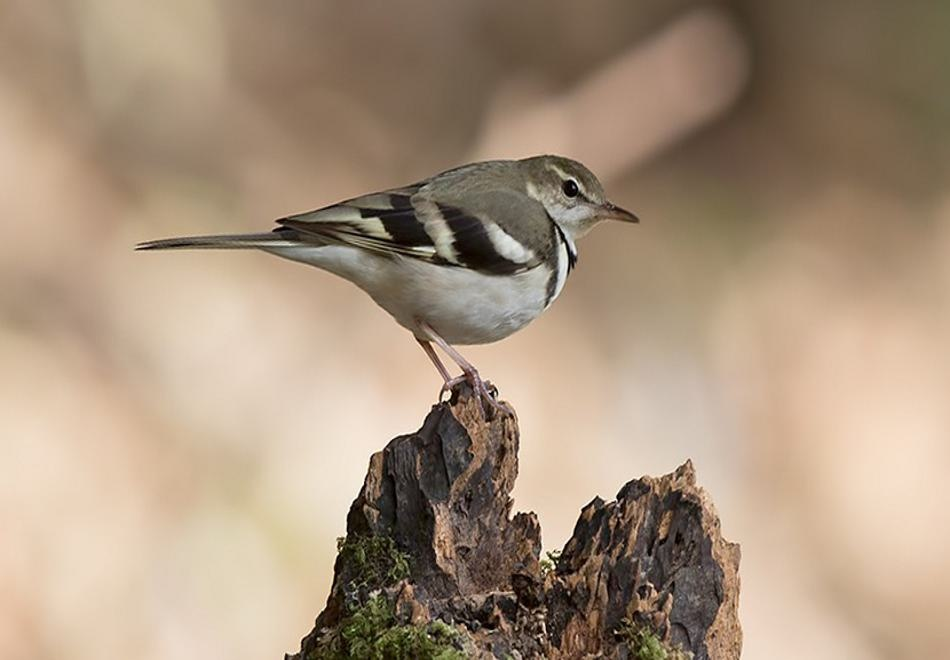wagtail: (195, 134, 657, 378)
